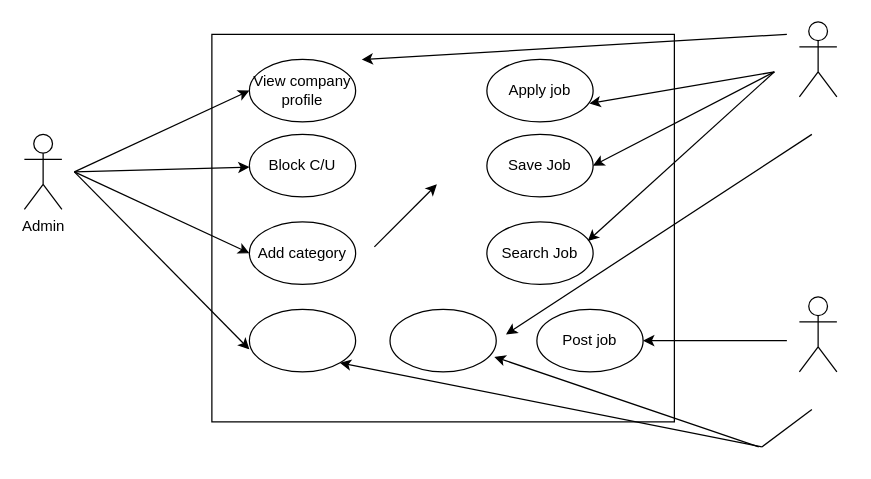
The diagram is 871 pixels wide and 479 high, and some of its shapes have lost their labels. The shapes that lost their labels are listed below. From the top down, each one's box as (x1, y1, x2, y2) in pixels, then its label:
(798, 21, 837, 97): User
(248, 308, 356, 372): Resume division
(389, 308, 496, 372): Login
(798, 296, 837, 372): Company
